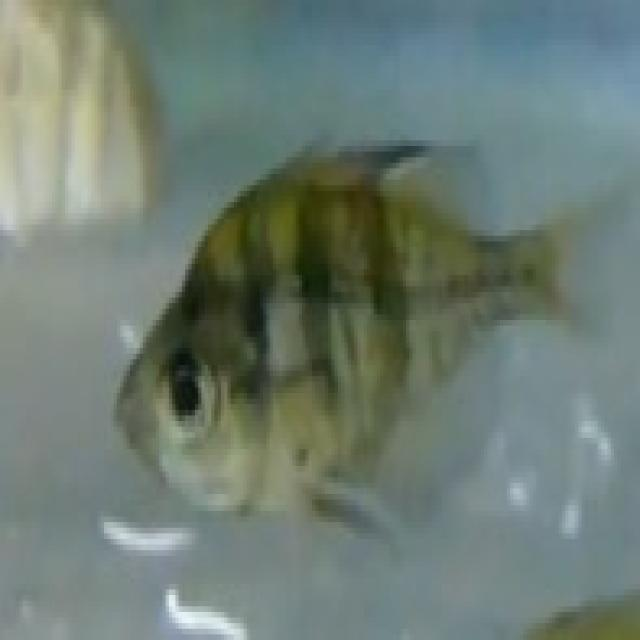Glass-Perchlet: (84, 68, 613, 584)
